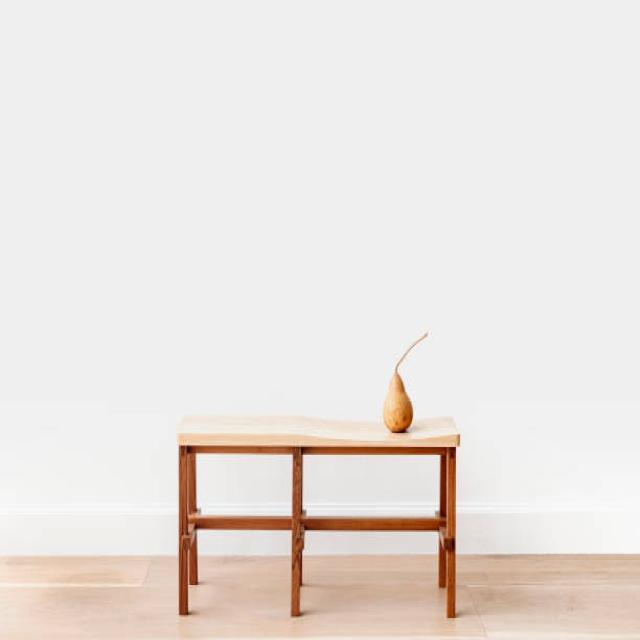table: (176, 412, 460, 620)
